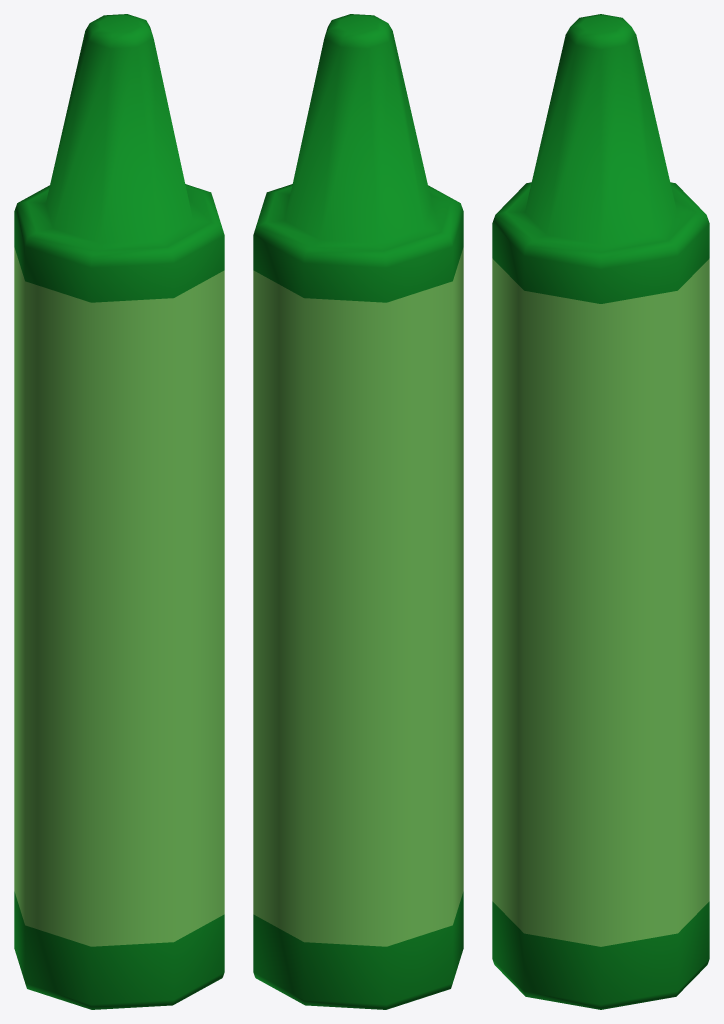
The model's file is CrayonGreen.fbx.
3 views of the same model, side by side, from view 1: azimuth 30°, elevation 25°; view 2: azimuth 150°, elevation 25°; view 3: azimuth 270°, elevation 25° (orthographic).
Parts seen in each view (by area): view 1: CrayonGreen; view 2: CrayonGreen; view 3: CrayonGreen.
Part boxes in pixels (left/top/right/bottom): CrayonGreen: left=14, top=14, right=224, bottom=1009; CrayonGreen: left=253, top=14, right=463, bottom=1009; CrayonGreen: left=492, top=14, right=709, bottom=1009.
Bounding box in the file's own units: 2.1 × 10.01 × 2.1.
